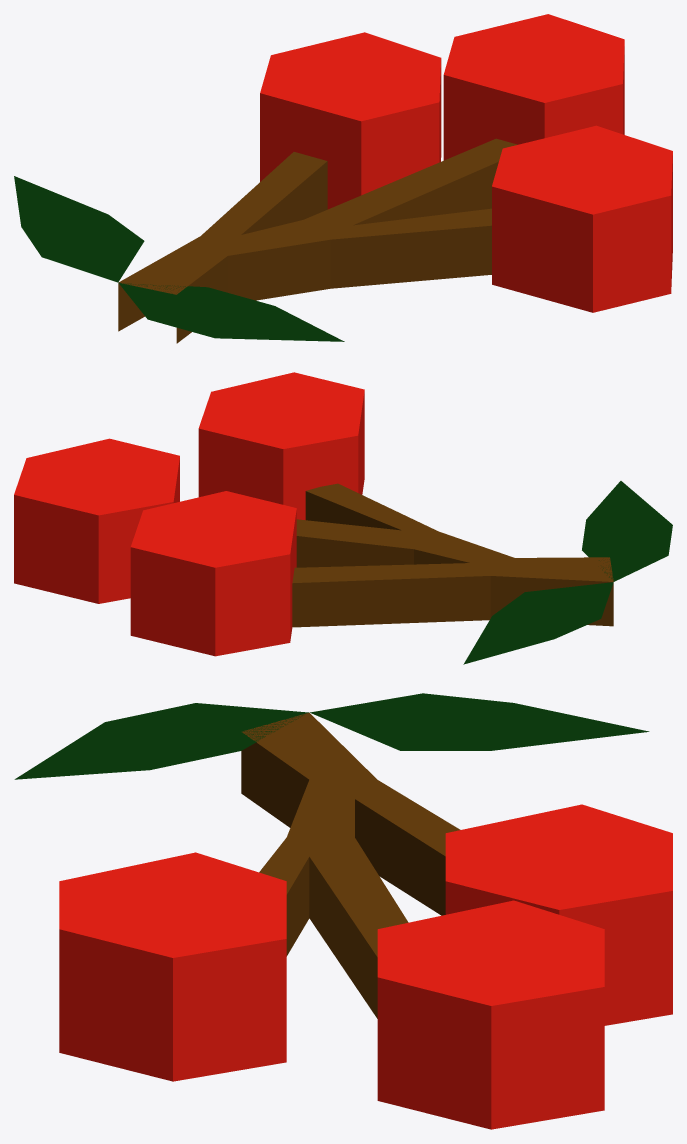
The picture shows the model from 3 angles, top to bottom: view 1: azimuth 30°, elevation 25°; view 2: azimuth 150°, elevation 25°; view 3: azimuth 270°, elevation 25°; orthographic projection. The views are drawn at different scales.
Parts seen in each view (by area): view 1: 2358; view 2: 2358; view 3: 2358.
Part boxes in pixels (box(x1,y1,x2,y2)): 2358: box(14, 14, 672, 343); 2358: box(14, 372, 672, 664); 2358: box(14, 693, 672, 1129).
Size of the model in its own units: 39 by 6 by 29.
